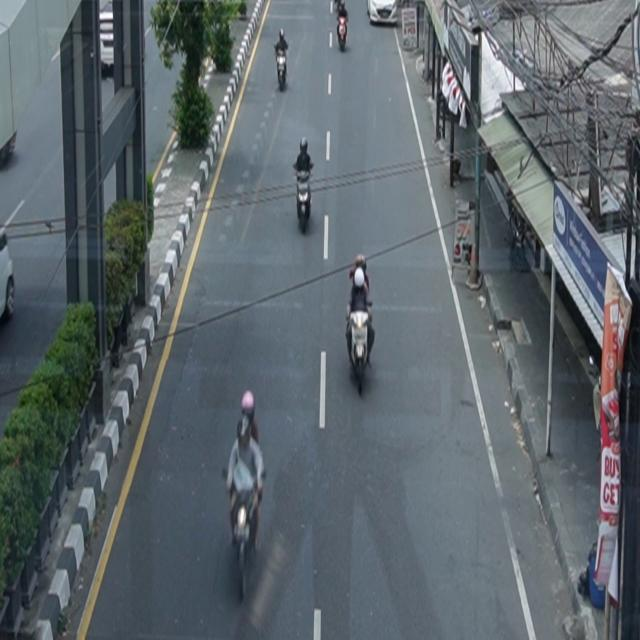car: (1, 226, 16, 324), (367, 1, 398, 26)
